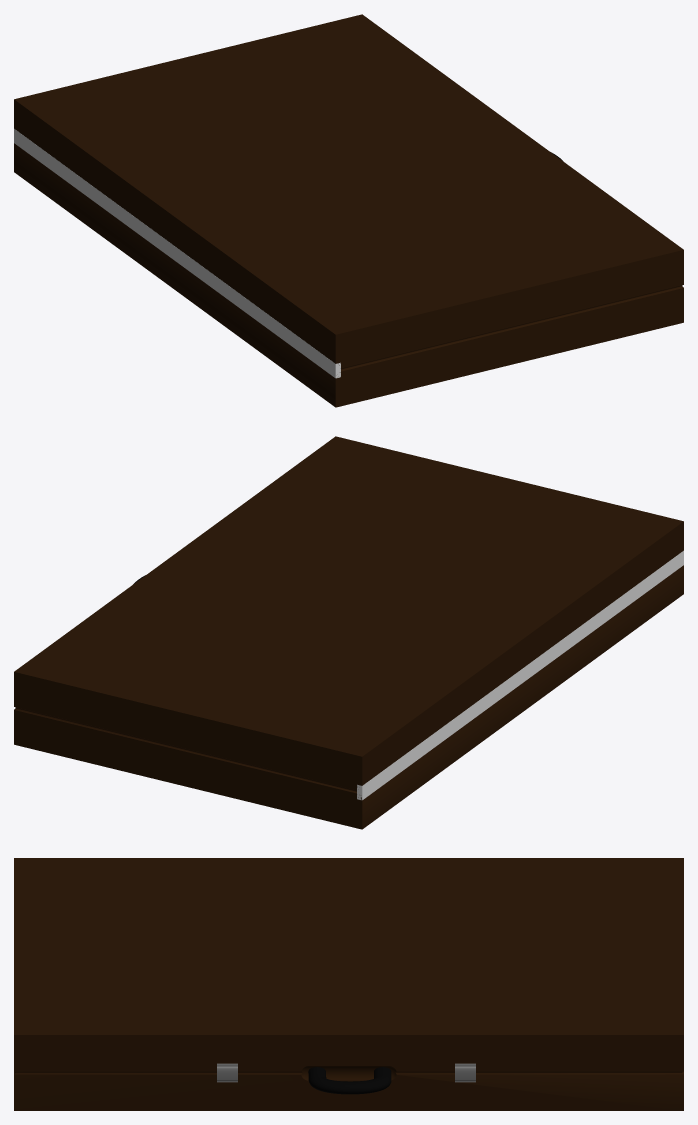
File: Maleta.fbx
3 views of the same model, one above another, from view 1: azimuth 30°, elevation 25°; view 2: azimuth 150°, elevation 25°; view 3: azimuth 270°, elevation 25° (orthographic). The views are drawn at different scales.
Parts seen in each view (by area): view 1: Cube_2, Cube; view 2: Cube_2, Cube; view 3: Cube_2, Sweep, Capsule, Extrude_1, Extrude.
Boxes of the visible parts, left/top/right/bottom form: Cube_2: left=14, top=14, right=683, bottom=407; Cube: left=14, top=128, right=340, bottom=378; Cube_2: left=14, top=436, right=683, bottom=829; Cube: left=357, top=550, right=683, bottom=800; Cube_2: left=14, top=858, right=683, bottom=1110; Sweep: left=308, top=1067, right=391, bottom=1094; Capsule: left=301, top=1066, right=396, bottom=1080; Extrude_1: left=455, top=1063, right=475, bottom=1082; Extrude: left=217, top=1063, right=237, bottom=1082.
Bounding box in the file's own units: 221 × 40 × 320.
